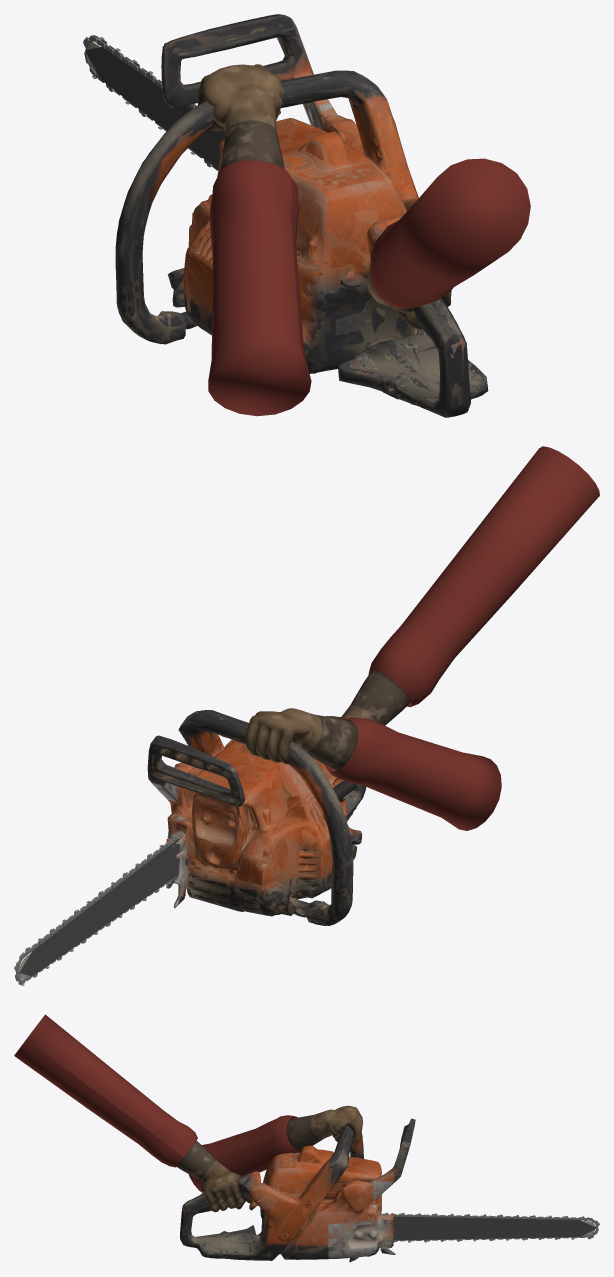
The model's file is saw.glb.
3 views of the same model, one above another, from view 1: azimuth 30°, elevation 25°; view 2: azimuth 150°, elevation 25°; view 3: azimuth 270°, elevation 25° (orthographic). The views are drawn at different scales.
Parts seen in each view (by area): view 1: LOD0_housing, LOD1_saw, LOD0_sleeveL, LOD0_sleeveR, LOD0_gloveL, LOD0_chain, LOD0_gloveR; view 2: LOD0_housing, LOD1_saw, LOD0_sleeveR, LOD0_sleeveL, LOD0_gloveL, LOD0_gloveR, LOD0_chain; view 3: LOD0_housing, LOD1_saw, LOD0_sleeveR, LOD0_sleeveL, LOD0_gloveR, LOD0_gloveL, LOD0_chain.
Boxes of the visible parts, x1,y1,x2,y2 form: LOD0_housing: (115, 14, 487, 417); LOD1_saw: (85, 15, 488, 417); LOD0_sleeveL: (208, 160, 311, 416); LOD0_sleeveR: (370, 158, 530, 308); LOD0_gloveL: (197, 64, 284, 170); LOD0_chain: (83, 35, 225, 170); LOD0_gloveR: (367, 270, 451, 329); LOD0_housing: (148, 710, 365, 925); LOD1_saw: (15, 710, 366, 976); LOD0_sleeveR: (368, 446, 599, 707); LOD0_sleeveL: (324, 717, 501, 830); LOD0_gloveL: (245, 708, 358, 770); LOD0_gloveR: (326, 670, 410, 725); LOD0_chain: (14, 831, 183, 985); LOD0_housing: (180, 1119, 415, 1261); LOD1_saw: (180, 1118, 596, 1262); LOD0_sleeveR: (14, 1014, 197, 1167); LOD0_sleeveL: (188, 1115, 300, 1192); LOD0_gloveR: (177, 1140, 244, 1212); LOD0_gloveL: (286, 1105, 363, 1150); LOD0_chain: (377, 1212, 599, 1242).
Bounding box in the file's own units: 0.3833 × 0.501 × 1.31.
Materials: 7 (2 with a texture image).
